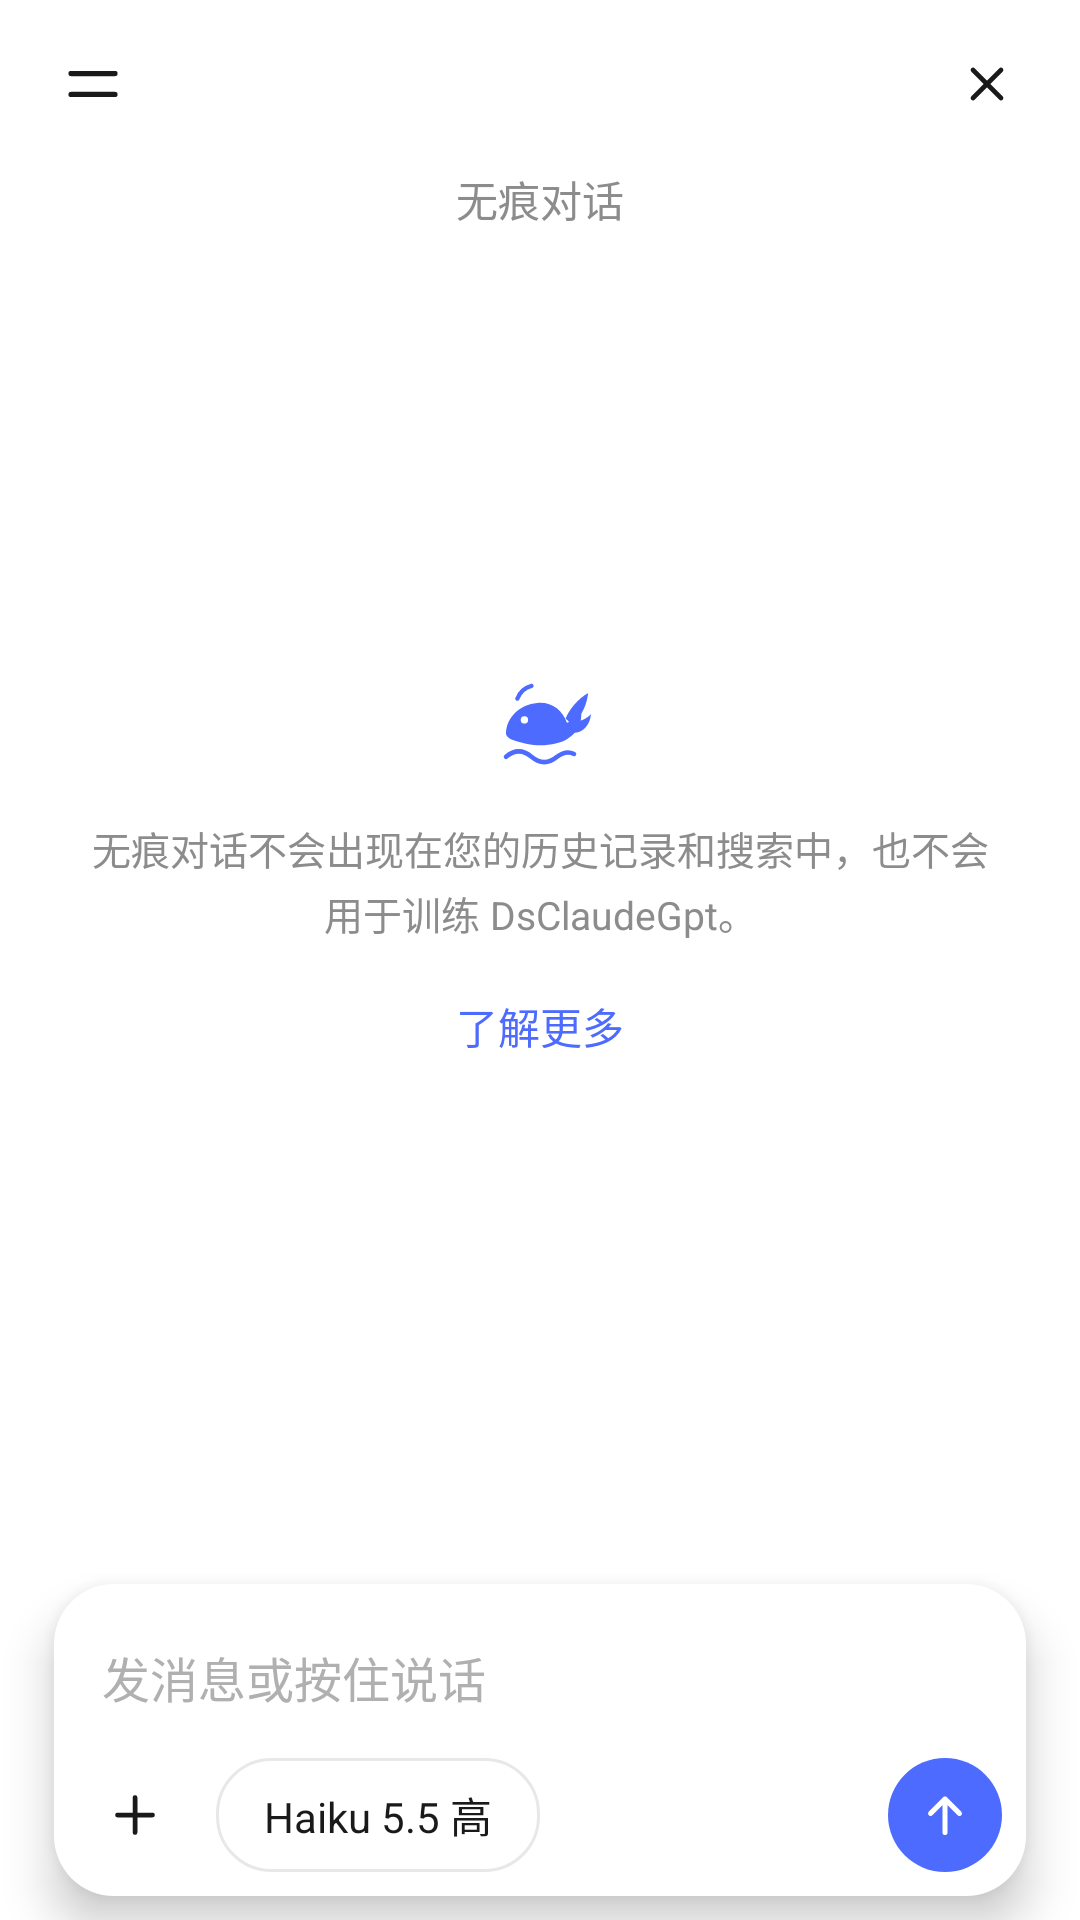

Point at icon controls on the screen. Image size 1080×1920, points as [x,y].
whale: [547,724]
关闭: [987,84]
添加内容: [135,1815]
菜单: [93,84]
